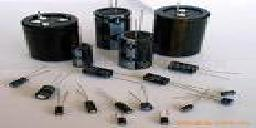Electrolytic-Capacitor: (20, 8, 82, 66), (151, 1, 209, 56), (167, 58, 242, 80), (83, 63, 135, 82), (97, 87, 131, 114), (75, 81, 98, 115), (130, 82, 153, 112), (7, 70, 43, 88), (53, 88, 67, 118), (113, 113, 129, 127), (157, 111, 170, 128)
